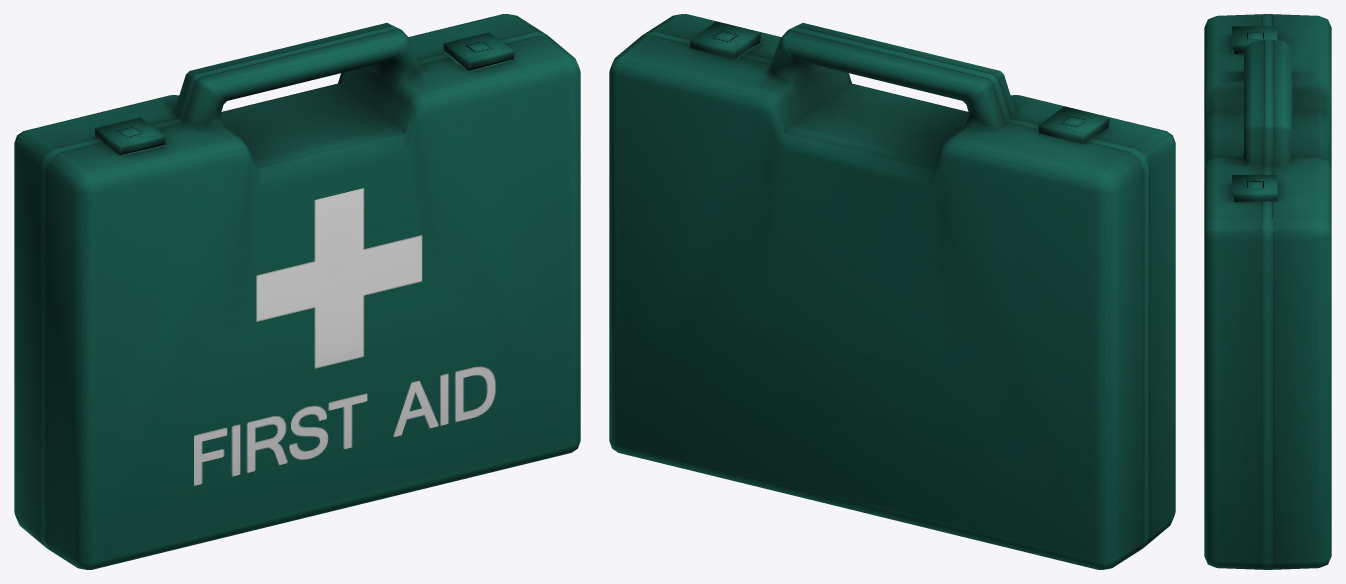
Rendered from toolBox.FBX.
The picture shows the model from 3 angles, left to right: view 1: azimuth 30°, elevation 25°; view 2: azimuth 150°, elevation 25°; view 3: azimuth 270°, elevation 25°; orthographic projection. The views are drawn at different scales.
Parts seen in each view (by area): view 1: toolBox_low; view 2: toolBox_low; view 3: toolBox_low.
Part boxes in pixels (<box>): toolBox_low: <box>14,14,580,569</box>; toolBox_low: <box>609,14,1175,569</box>; toolBox_low: <box>1204,14,1331,569</box>.
Bounding box in the file's own units: 12.09 × 10.14 × 3.
